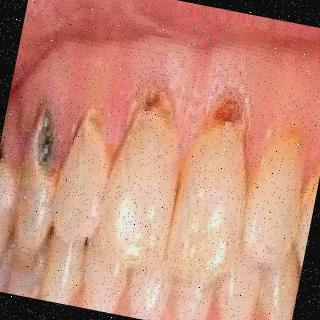cavities: (126, 82, 175, 148), (29, 104, 62, 180), (73, 110, 113, 170), (204, 100, 246, 156)
